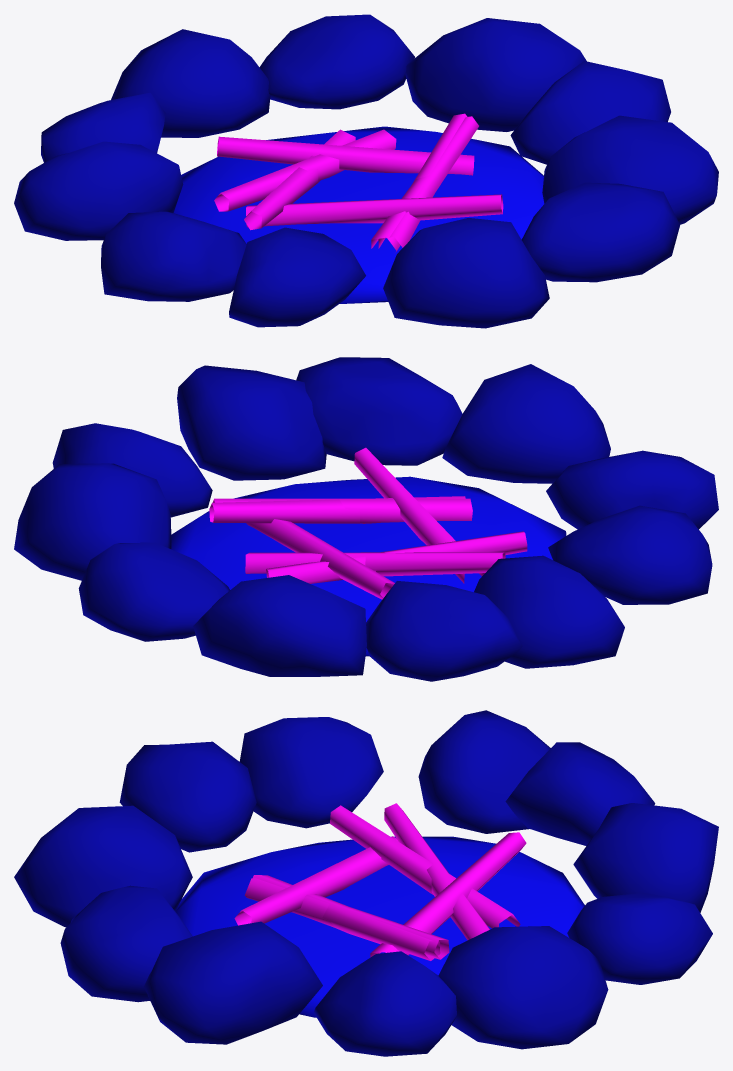
File: PROP_PC_FireRing.fbx
3 renders of one model, top to bottom at view 1: azimuth 30°, elevation 25°; view 2: azimuth 150°, elevation 25°; view 3: azimuth 270°, elevation 25°, orthographic. The views are drawn at different scales.
Parts seen in each view (by area): view 1: PROP_PC_FireRing_LOD0; view 2: PROP_PC_FireRing_LOD0; view 3: PROP_PC_FireRing_LOD0.
Part boxes in pixels (x1,y1,x2,y2): PROP_PC_FireRing_LOD0: [14, 14, 718, 328]; PROP_PC_FireRing_LOD0: [14, 357, 718, 681]; PROP_PC_FireRing_LOD0: [14, 710, 718, 1056].
Size of what is drawn, in the model's own units: 1.62 by 0.2793 by 1.57.
